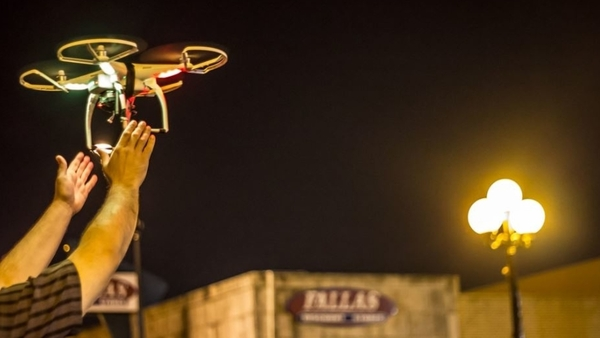drone: (19, 36, 228, 133)
